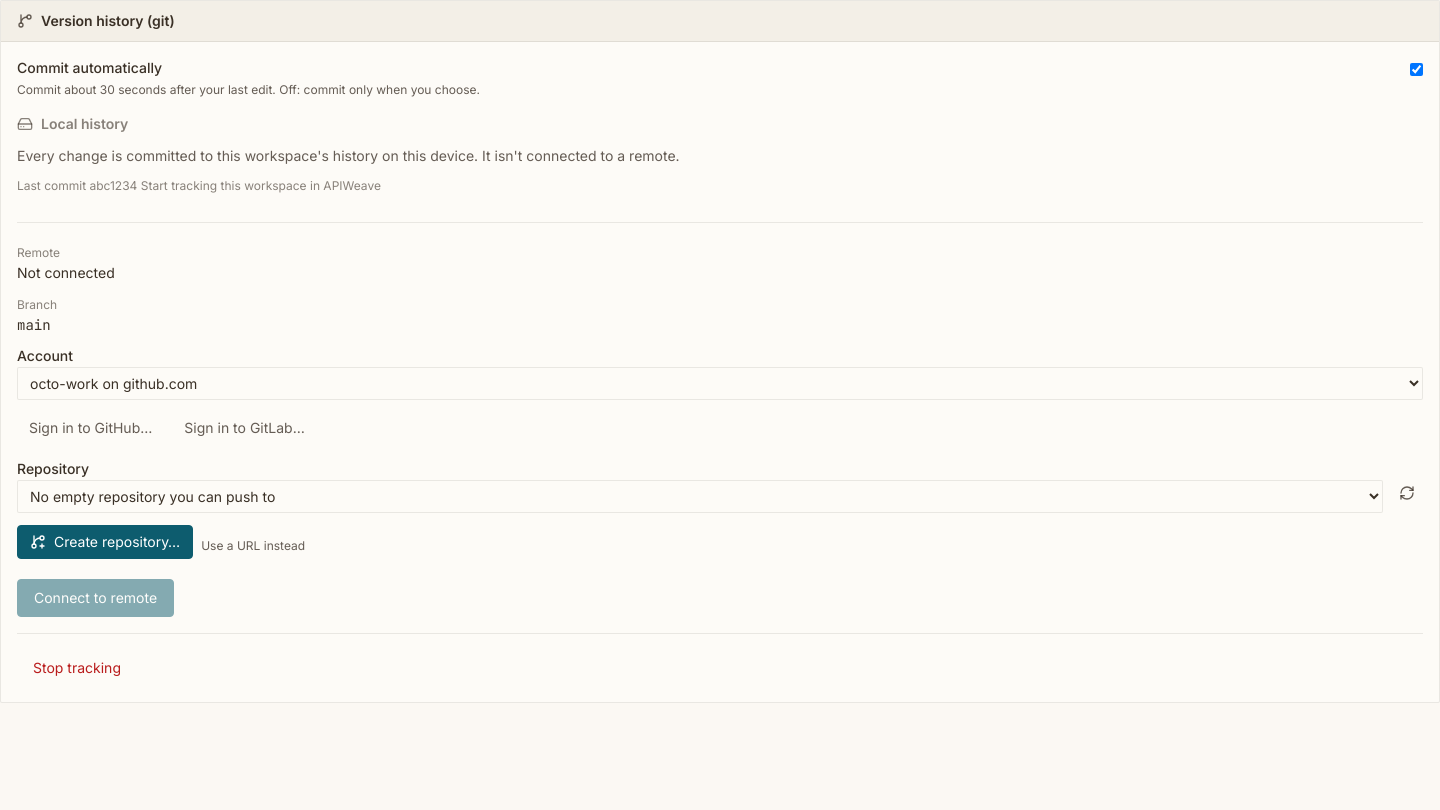
Create repository › refuses a name that is not one, before asking the host
Step 1. Select "octo-work on github.com" in the dropdown named "Account" → [720, 384], box x1=17 y1=367 x2=1423 y2=400
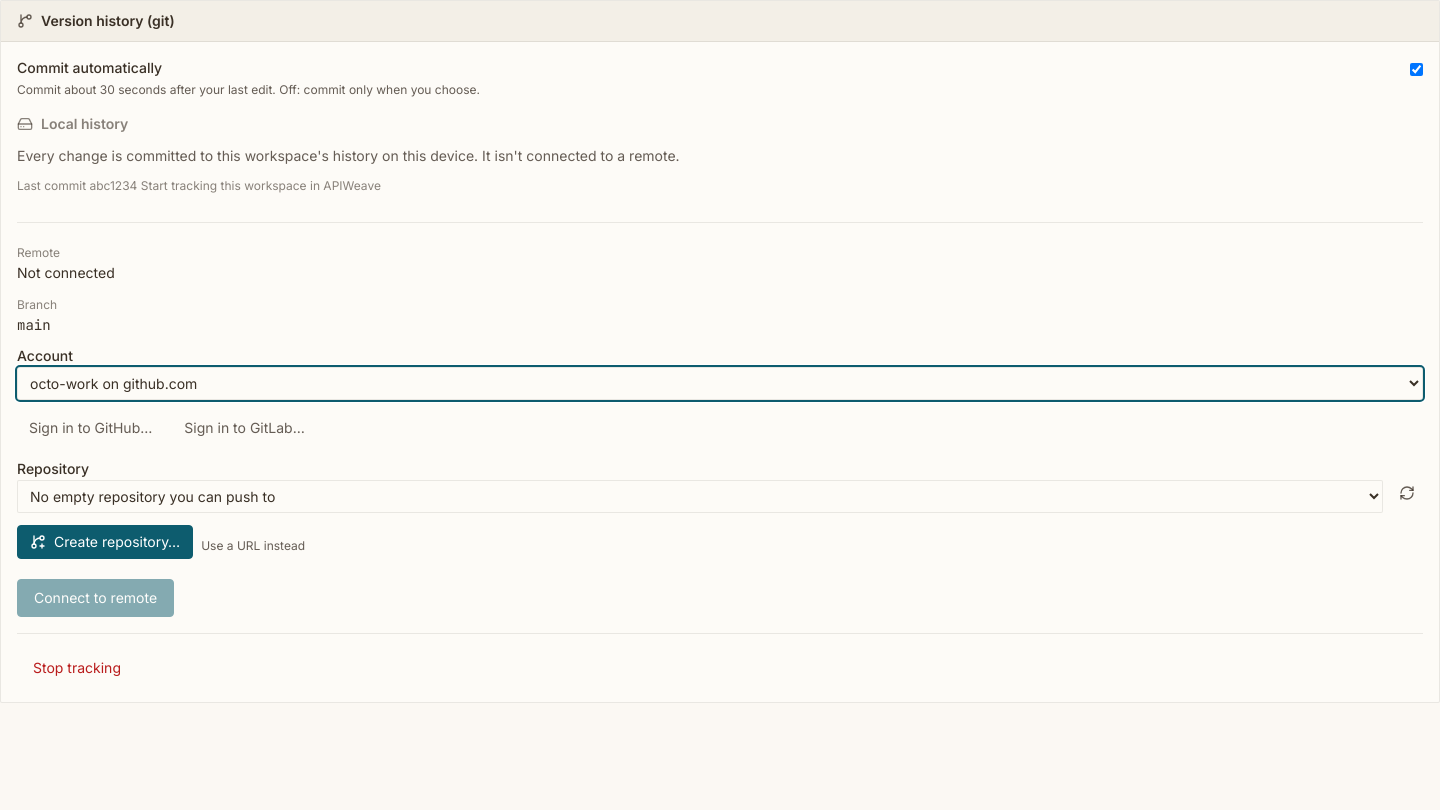
Step 2. Click the button "Create repository…" → [105, 542], box x1=17 y1=525 x2=193 y2=559
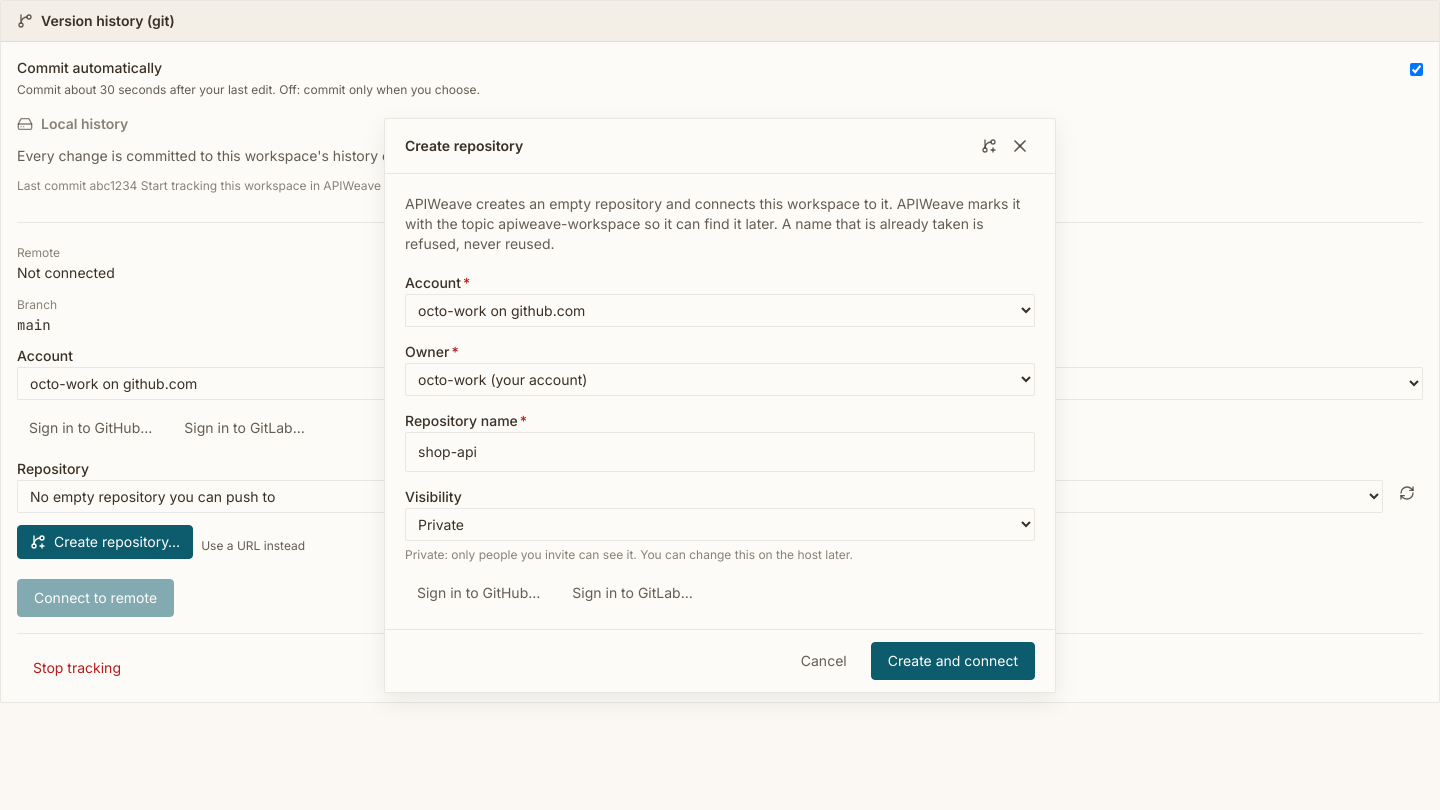
Check: the dropdown named "Account" shows "octo-work on github.com", box x1=405 y1=294 x2=1035 y2=326
Check: the dropdown named "Owner" shows "octo-work (your account)", box x1=405 y1=362 x2=1035 y2=396
Step 3. Replace the text in the field named "Repository name" with "-shop..api" → [720, 452], box x1=405 y1=432 x2=1035 y2=472
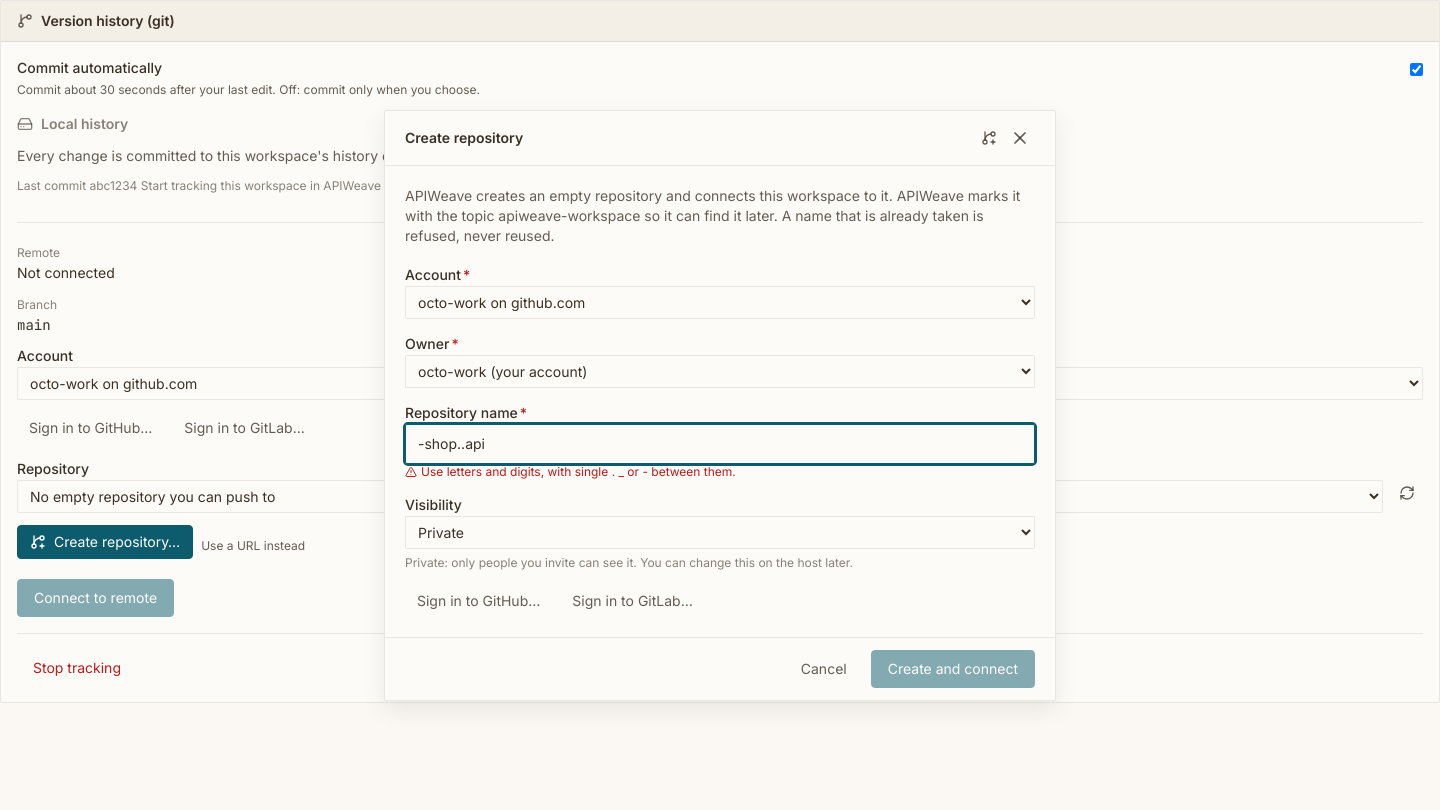
Check: the button "Create and connect" is disabled, box x1=871 y1=650 x2=1035 y2=688
Check: the text "Use letters and digits, with single . _ or - between them." is shown, box x1=405 y1=464 x2=736 y2=478
